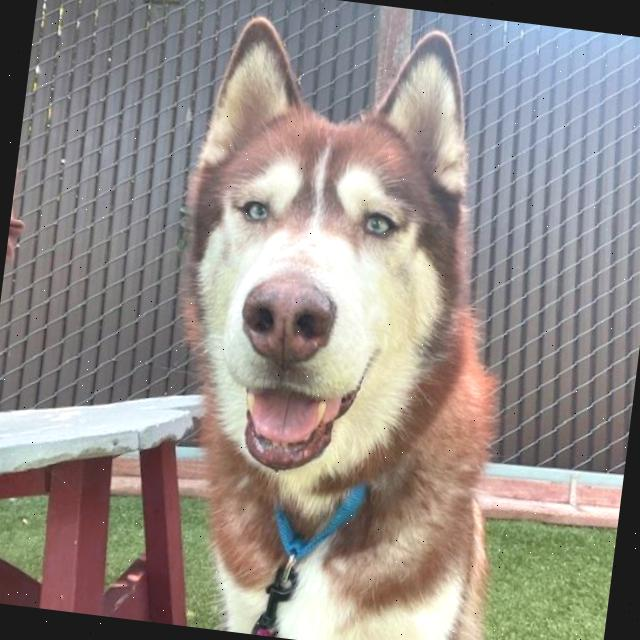siberian_husky_dog: (132, 0, 548, 563)
